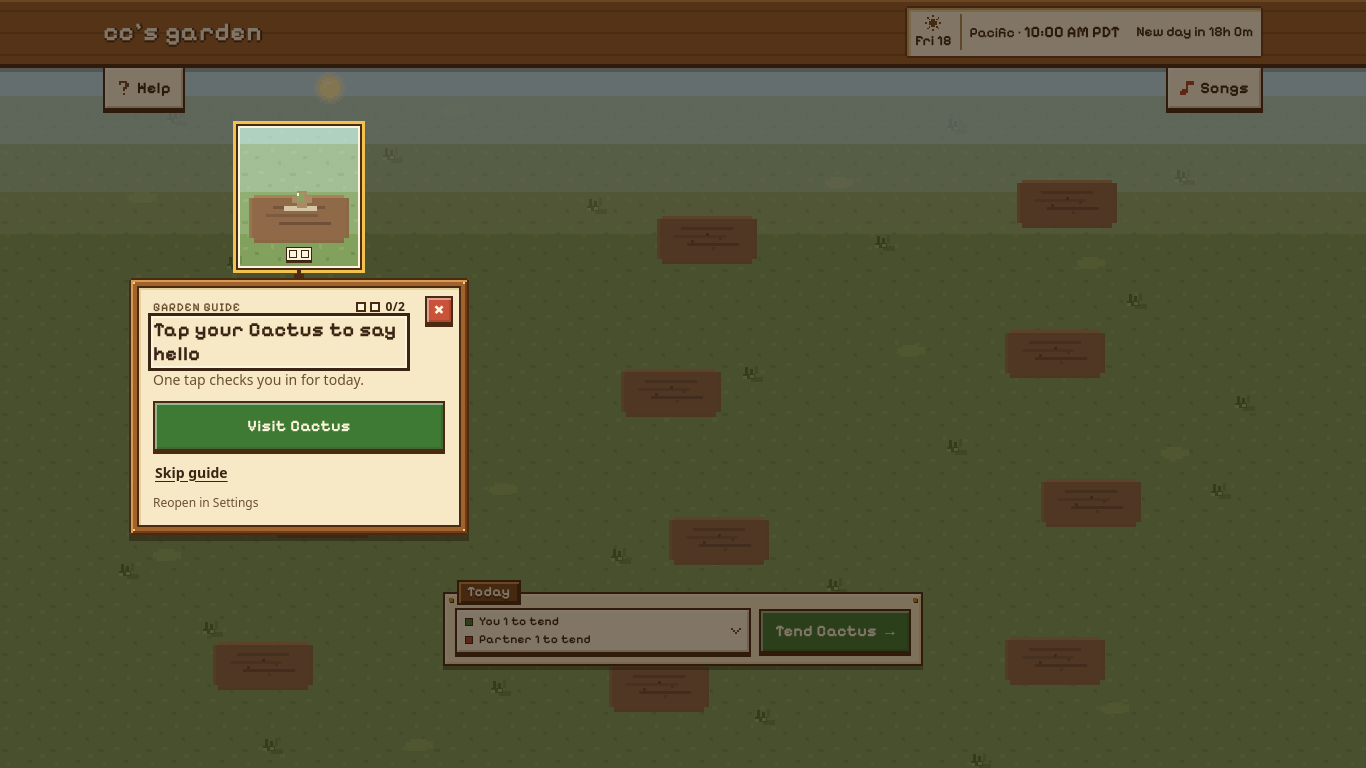
Scenario: opens the real Cactus sheet without creating care, then advances only from returned facts
Click the button "Visit Cactus" at (299, 426), box [153, 401, 445, 451]
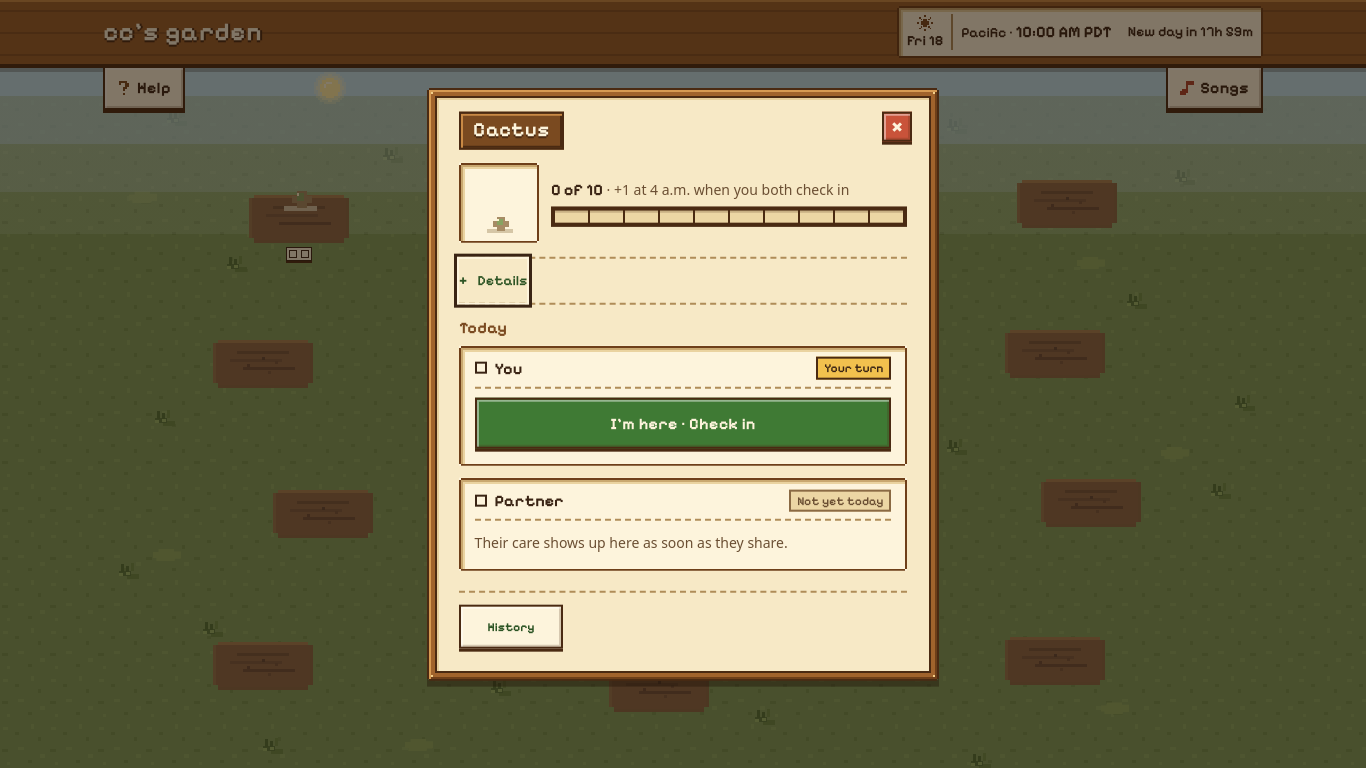
Now the number of dialogs is 1, box [427, 87, 939, 681]
Click the button "I’m here · Check in" at (683, 423), box [475, 398, 891, 448]
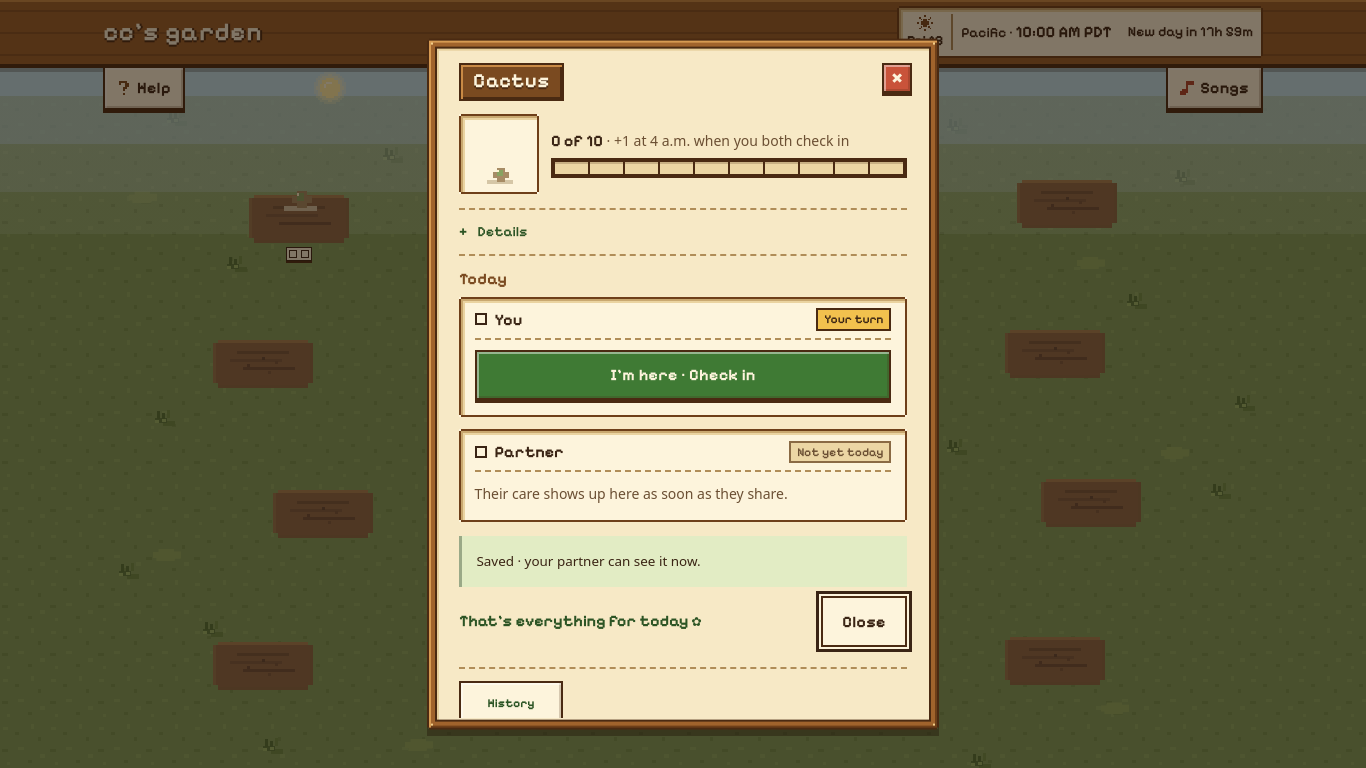
Click the button named "Close" at (897, 78), box [875, 56, 919, 100]
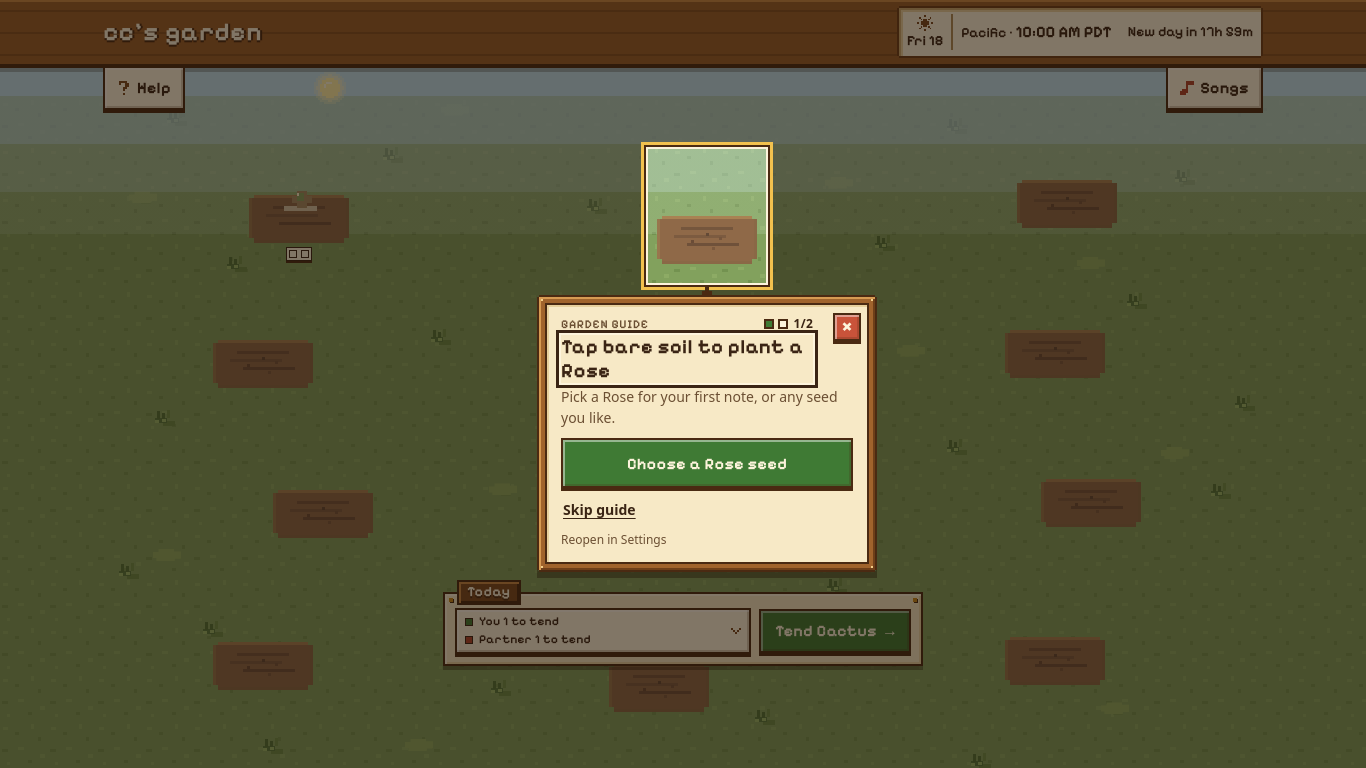
Now the button "Choose a Rose seed" is shown
Click the button "Choose a Rose seed" at (707, 463), box [561, 438, 853, 488]
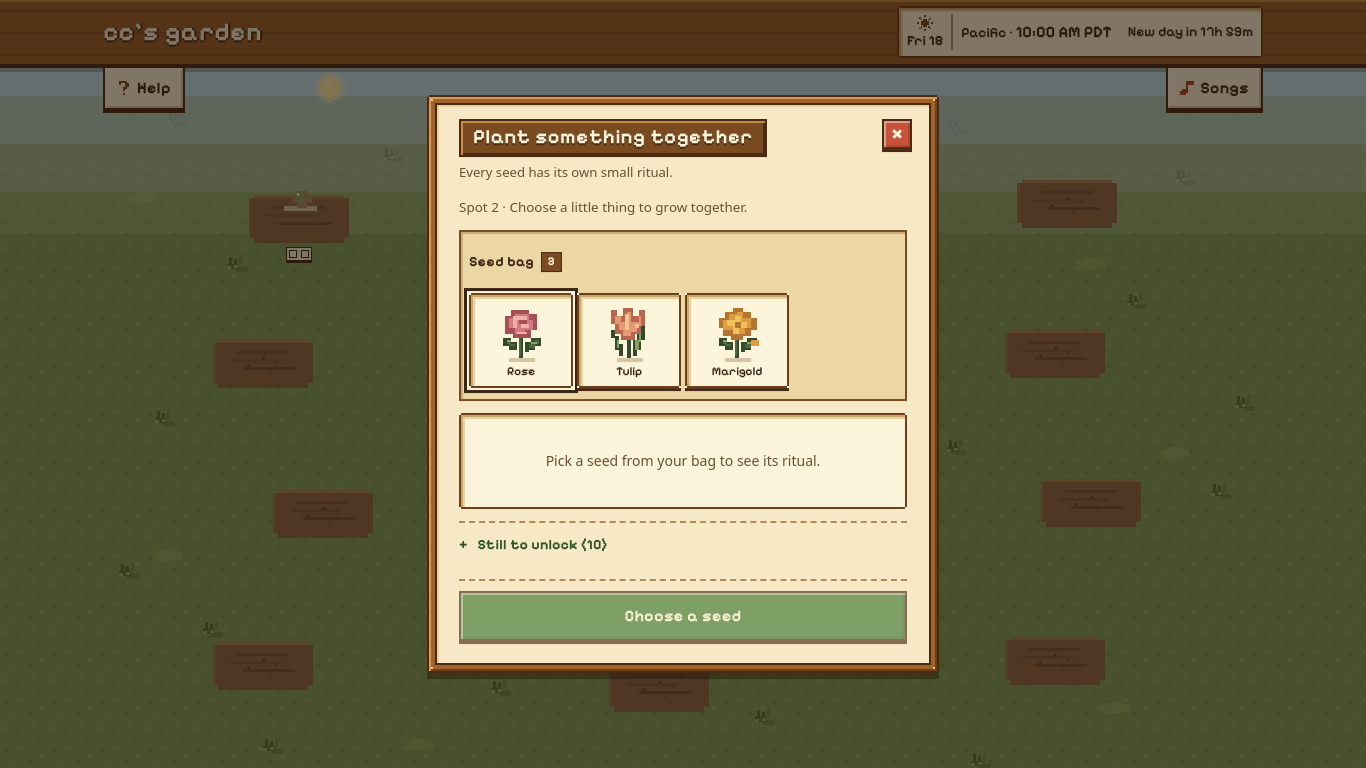
Now the button "Rose" is enabled, box [469, 293, 573, 388]
Now the button "Tulip" is enabled, box [577, 293, 681, 388]
Now the button "Marigold" is enabled, box [685, 293, 789, 388]
